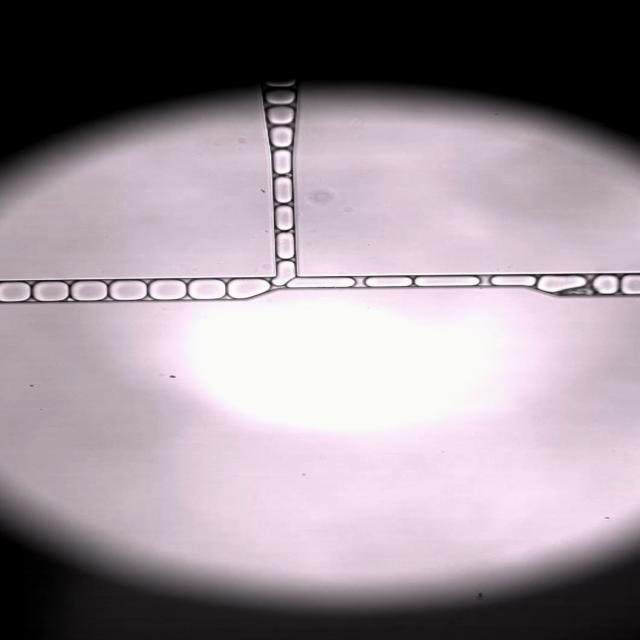L: (267, 106, 294, 125), (273, 261, 295, 284), (264, 89, 295, 105), (592, 275, 618, 294), (269, 127, 293, 147), (276, 233, 294, 259), (365, 277, 411, 287), (275, 177, 292, 203), (491, 276, 535, 286), (273, 150, 291, 174), (275, 206, 293, 230), (264, 79, 296, 89)
S: (227, 279, 269, 299), (537, 276, 586, 293), (149, 280, 186, 300), (188, 280, 226, 299), (71, 281, 107, 301), (110, 281, 147, 300), (33, 281, 68, 301), (287, 278, 354, 288), (414, 276, 479, 286), (0, 282, 30, 302), (621, 275, 640, 294)
